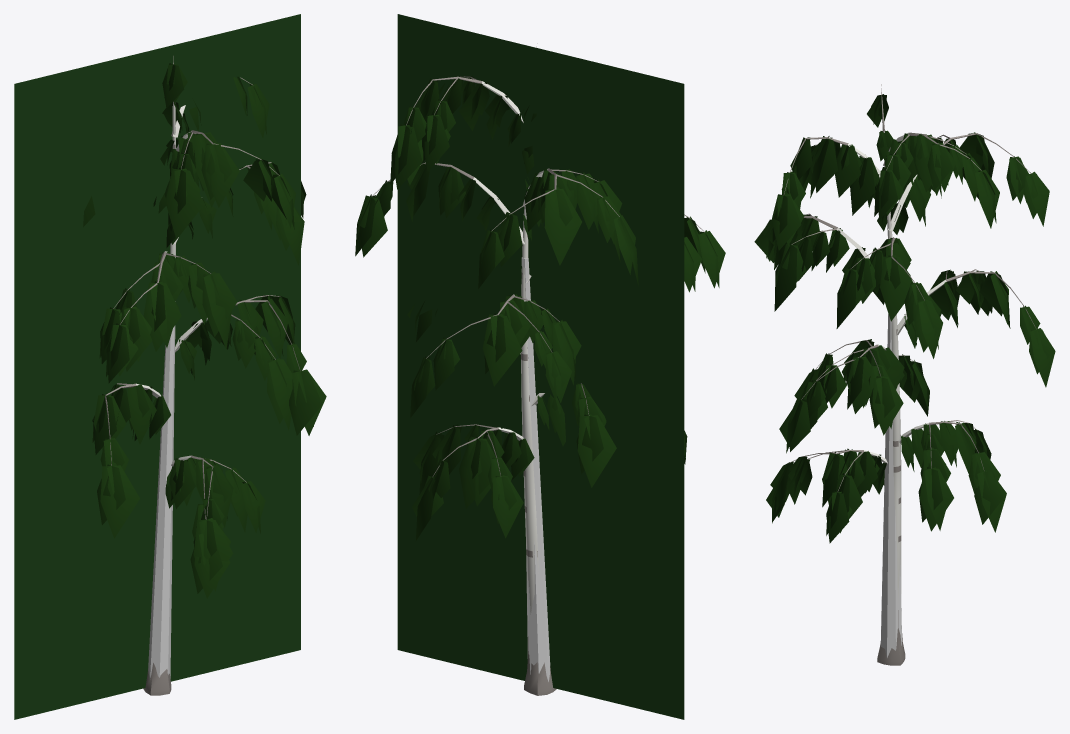
Rendered from Birch.fbx.
The picture shows the model from 3 angles, left to right: view 1: azimuth 30°, elevation 25°; view 2: azimuth 150°, elevation 25°; view 3: azimuth 270°, elevation 25°; orthographic projection. The views are drawn at different scales.
Parts seen in each view (by area): view 1: Birch_Billboard, Birch_Foliage, COL_Birch, Birch_Trunk; view 2: Birch_Billboard, Birch_Foliage, Birch_Trunk, COL_Birch; view 3: Birch_Foliage, Birch_Trunk, COL_Birch.
Part boxes in pixels (bbox=[...]): Birch_Billboard: bbox=[14, 14, 300, 719]; Birch_Foliage: bbox=[83, 63, 326, 598]; COL_Birch: bbox=[148, 257, 175, 678]; Birch_Trunk: bbox=[105, 56, 300, 695]; Birch_Billboard: bbox=[397, 14, 684, 719]; Birch_Foliage: bbox=[355, 76, 725, 540]; Birch_Trunk: bbox=[371, 43, 704, 695]; COL_Birch: bbox=[521, 257, 550, 681]; Birch_Foliage: bbox=[754, 94, 1055, 543]; Birch_Trunk: bbox=[783, 84, 1036, 665]; COL_Birch: bbox=[880, 314, 901, 657].
Size of what is drawn, in the model's own units: 4.58 by 9.06 by 4.24.
